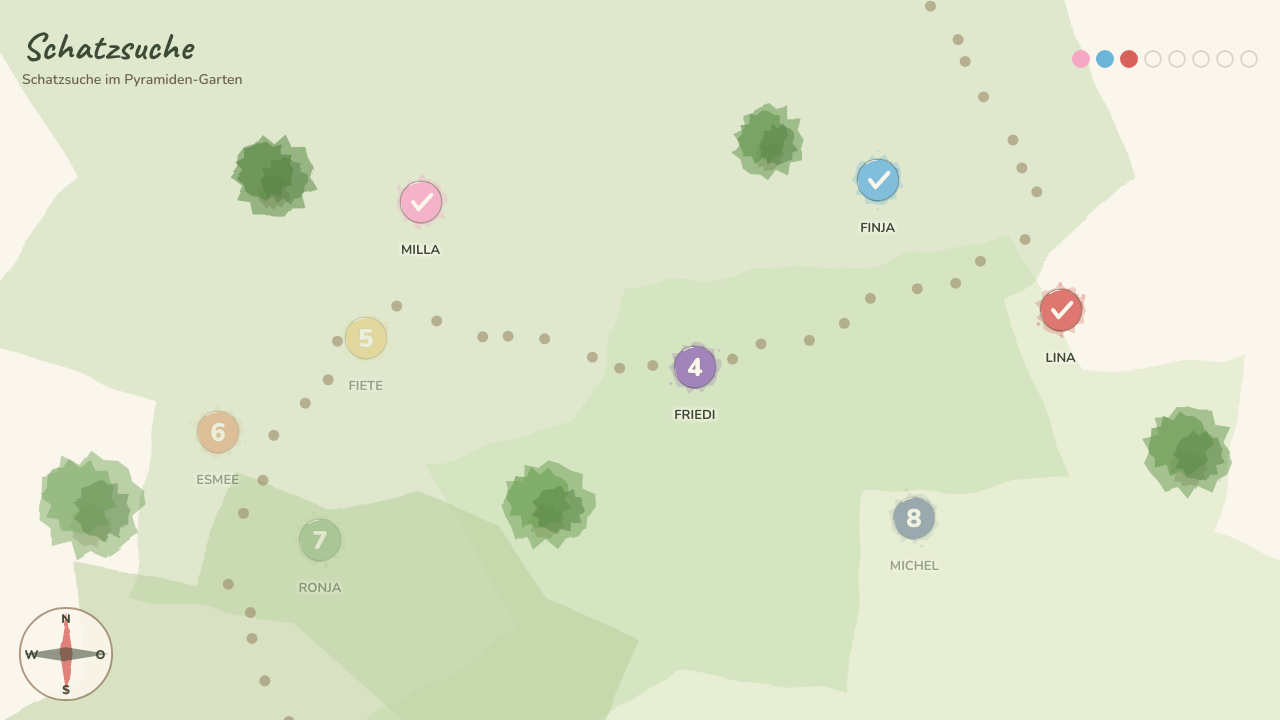
MapScreen › admin 'Spiel zurücksetzen' clears progress and closes the menu
The image size is (1280, 720).
Press the mouse on the button with test id "map-title" at (132, 58), box [22,28,242,89]
Wait 1500 ms
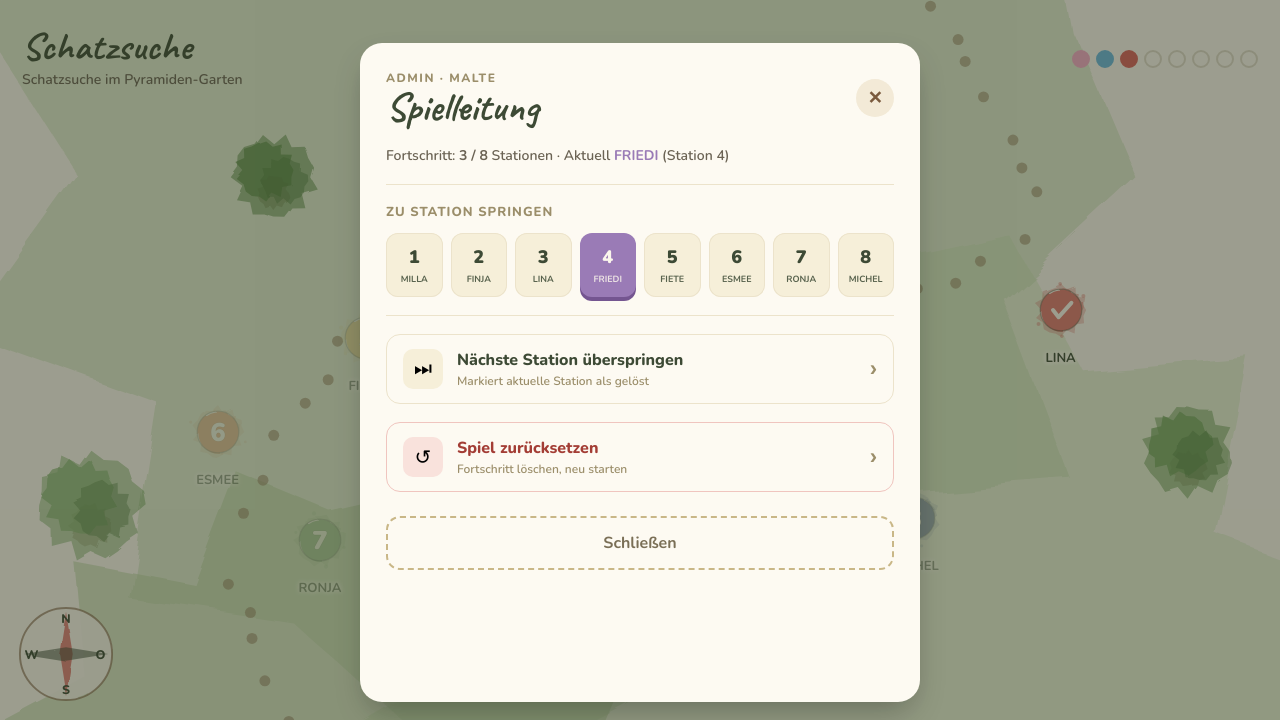
Click the button "↺ Spiel zurücksetzen Fortschritt löschen, neu starten ›".
click(423, 457)  # box [386,422,894,492]
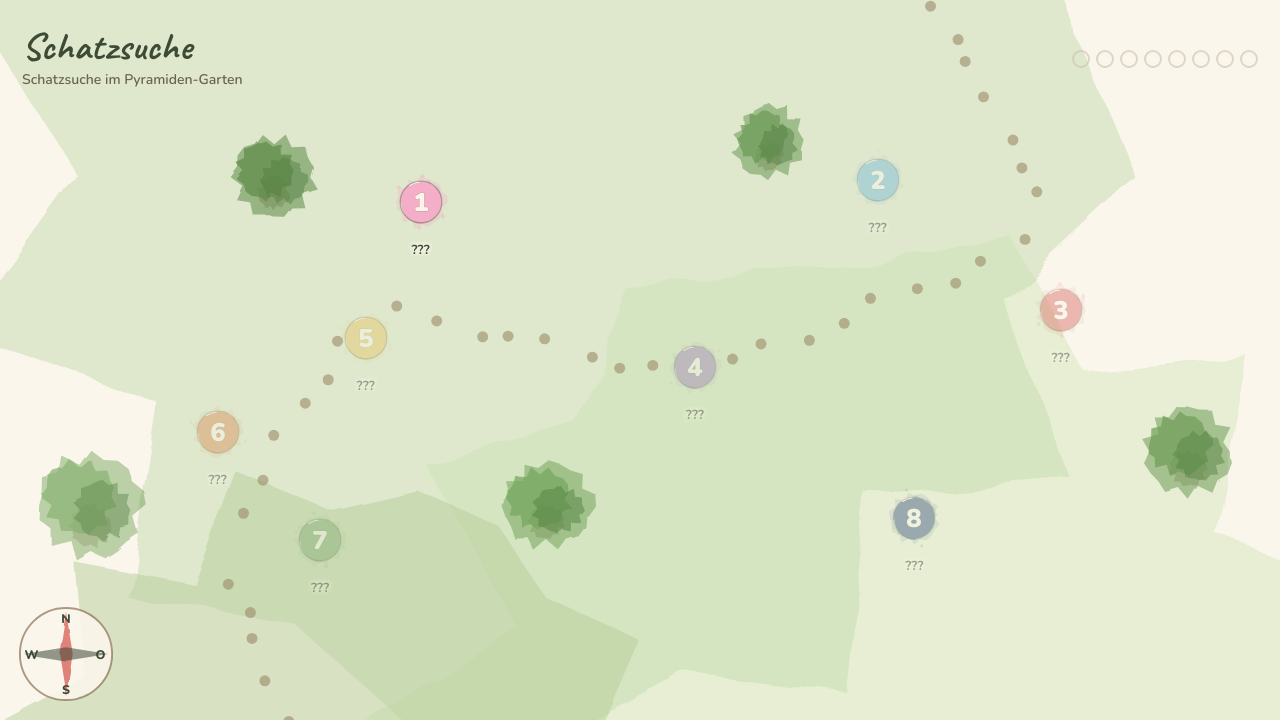
Check: the dialog with test id "admin-menu" is gone
